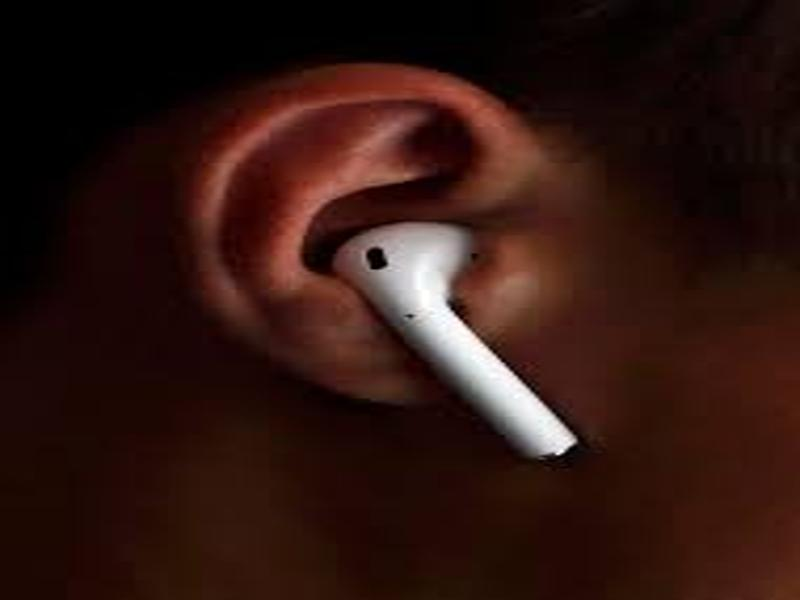headphone: (335, 219, 582, 468)
